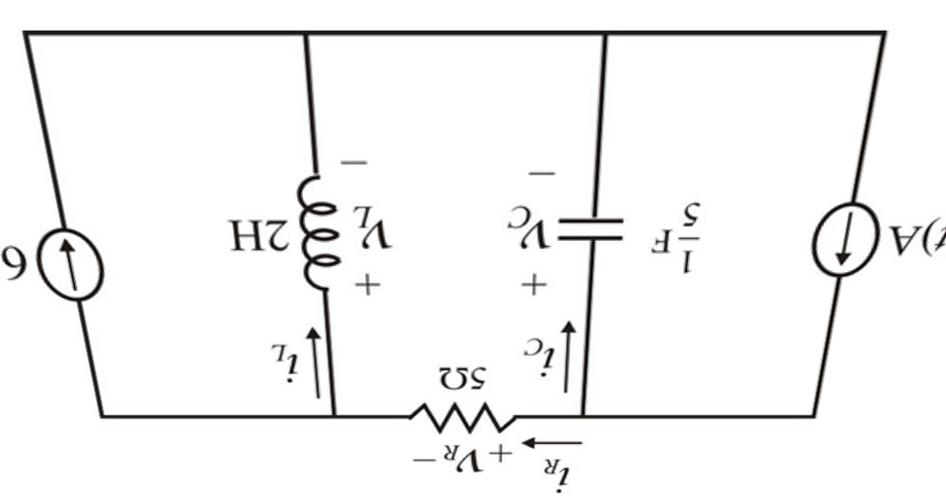inductor: (291, 151, 348, 302)
